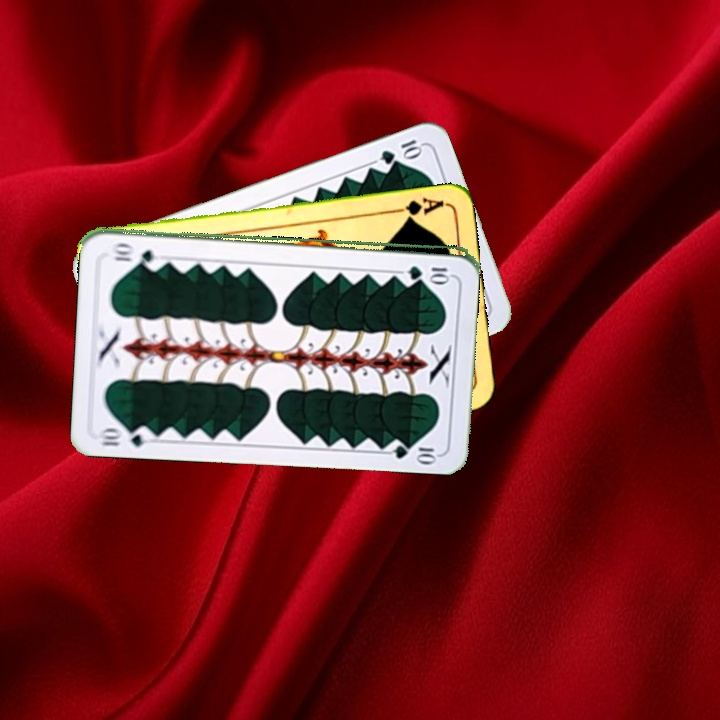G10: (376, 135, 425, 167), (98, 422, 154, 449), (403, 262, 453, 280)
GA: (388, 193, 446, 223)
